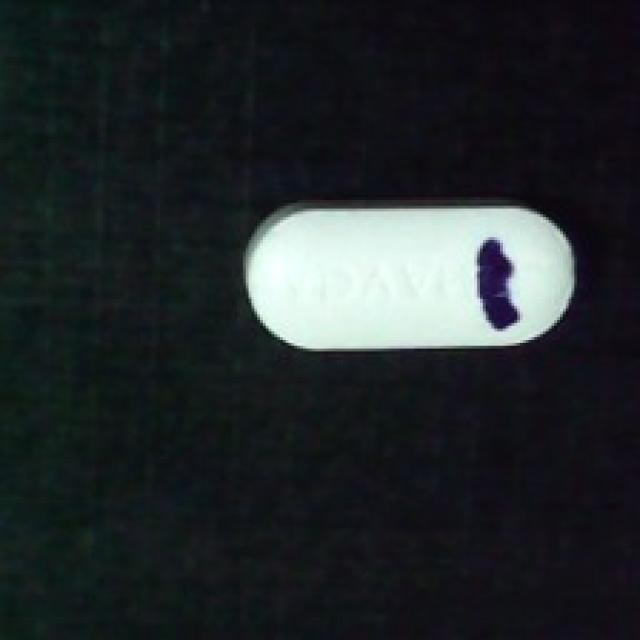defected: (240, 197, 580, 366)
